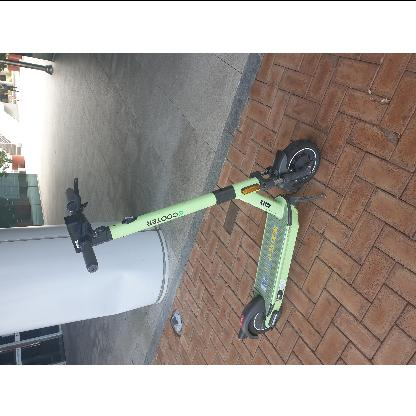bike: (63, 139, 324, 350)
